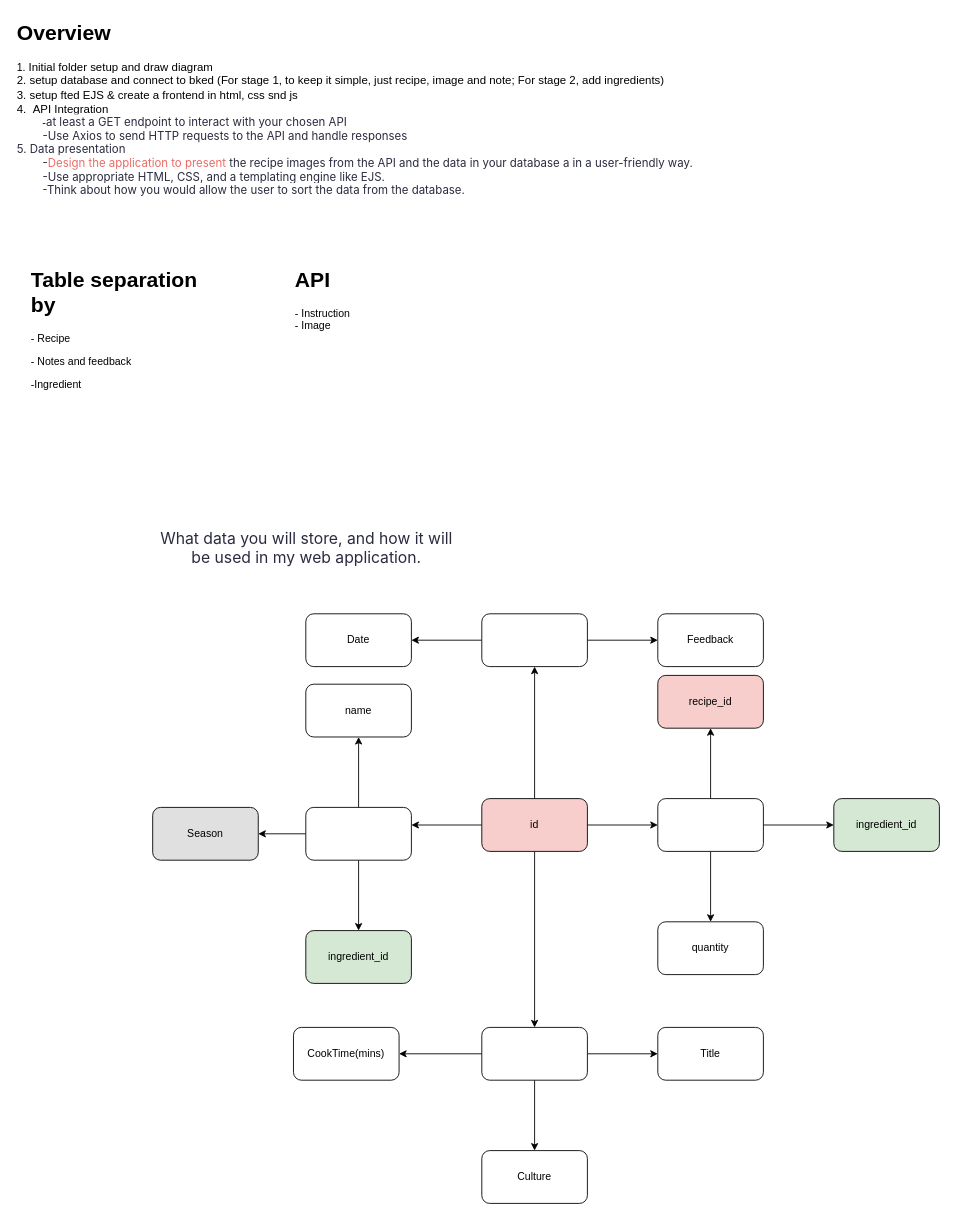
Some shapes in this 955 by 1219 pixel diagram are drawn without their labels. Here are the shapes that lost their labels. From the top down, the centre of each, then its label:
At (534,640): "Note".
At (358,833): "Ingredients".
At (710,824): "recipe_ingredients (many:many)".
At (534,1053): "Recipe".
